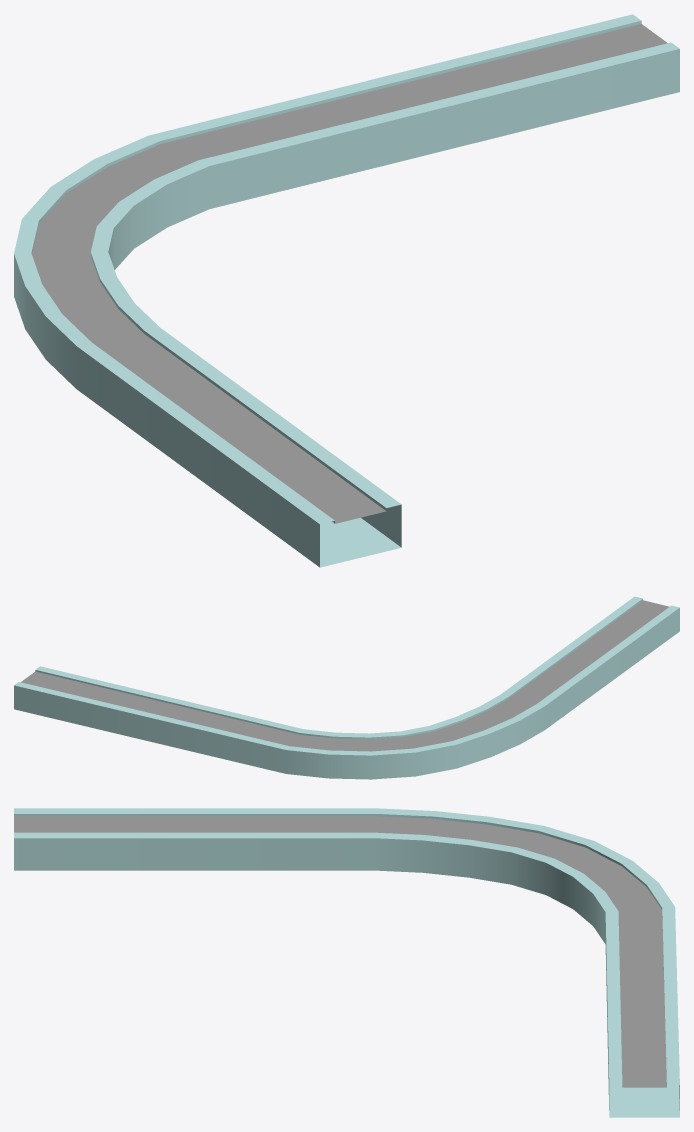
Rendered from right.fbx.
3 views of the same model, one above another, from view 1: azimuth 30°, elevation 25°; view 2: azimuth 150°, elevation 25°; view 3: azimuth 270°, elevation 25° (orthographic). The views are drawn at different scales.
Parts seen in each view (by area): view 1: Cube.033; view 2: Cube.033; view 3: Cube.033.
Boxes of the visible parts, x1,y1,x2,y2 form: Cube.033: (14, 14, 679, 567); Cube.033: (14, 596, 679, 779); Cube.033: (14, 808, 679, 1117).
Size of the model in its own units: 1884 by 103 by 1915.
